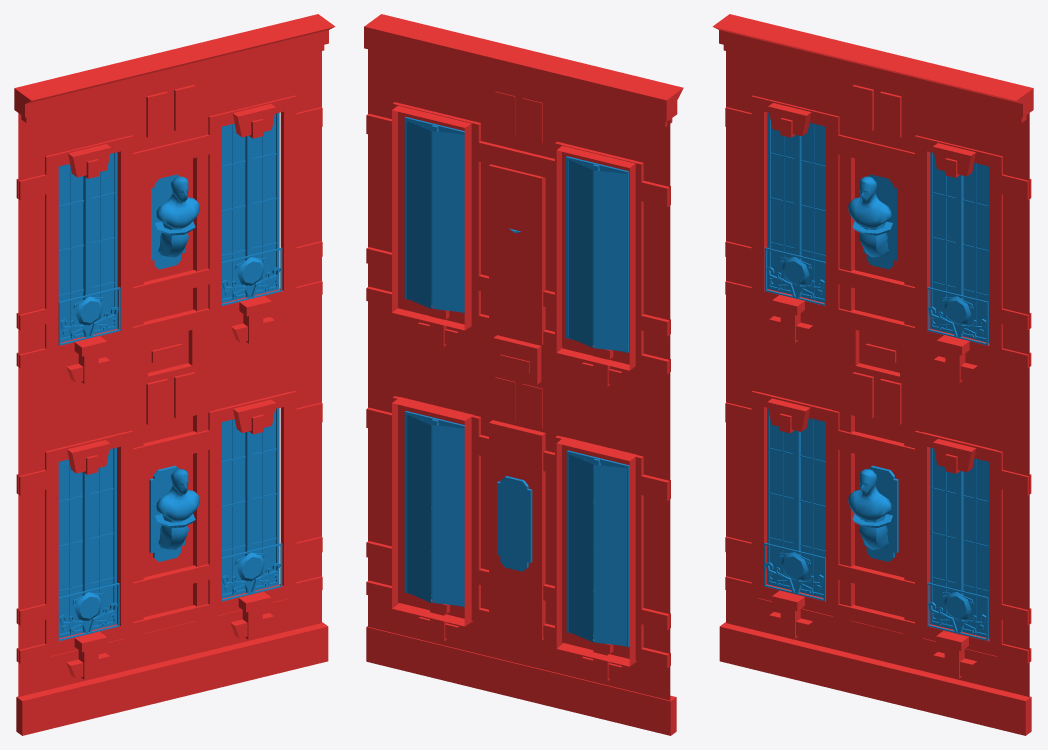
Rendered from palace_wall_A.fbx.
The picture shows the model from 3 angles, left to right: view 1: azimuth 30°, elevation 25°; view 2: azimuth 150°, elevation 25°; view 3: azimuth 330°, elevation 25°; orthographic projection.
Parts seen in each view (by area): view 1: wall, window_and_statue; view 2: wall, window_and_statue; view 3: wall, window_and_statue.
Boxes of the visible parts, x1,y1,x2,y2 form: wall: (14, 14, 335, 735); window_and_statue: (58, 112, 282, 641); wall: (364, 14, 683, 735); window_and_statue: (404, 117, 629, 647); wall: (712, 14, 1033, 735); window_and_statue: (764, 112, 989, 640).
Size of the model in its own units: 403 by 806 by 58.5.
